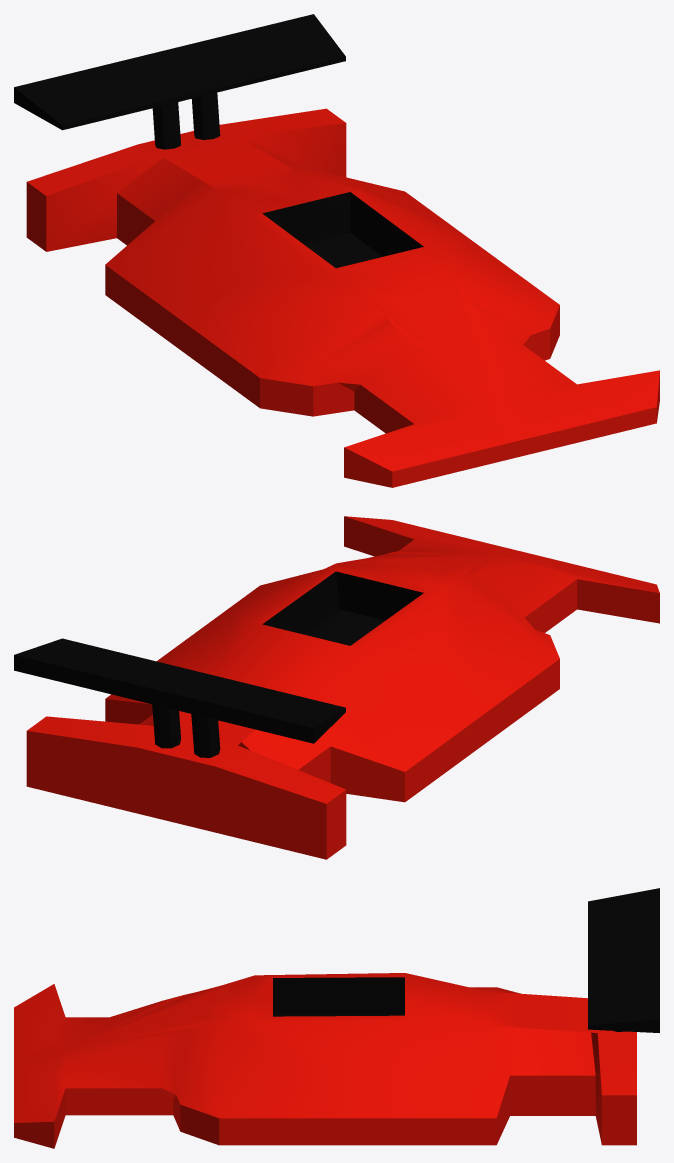
The model's file is f1 car.fbx.
3 renders of one model, top to bottom at view 1: azimuth 30°, elevation 25°; view 2: azimuth 150°, elevation 25°; view 3: azimuth 270°, elevation 25°, orthographic. The views are drawn at different scales.
Visible parts, largest first — view 1: Car; view 2: Car; view 3: Car.
Part boxes in pixels (x1=…): Car: x1=14, y1=14, x2=659, y2=487; Car: x1=14, y1=516, x2=659, y2=859; Car: x1=14, y1=888, x2=659, y2=1148.
Bounding box in the file's own units: 421 × 180 × 833.
